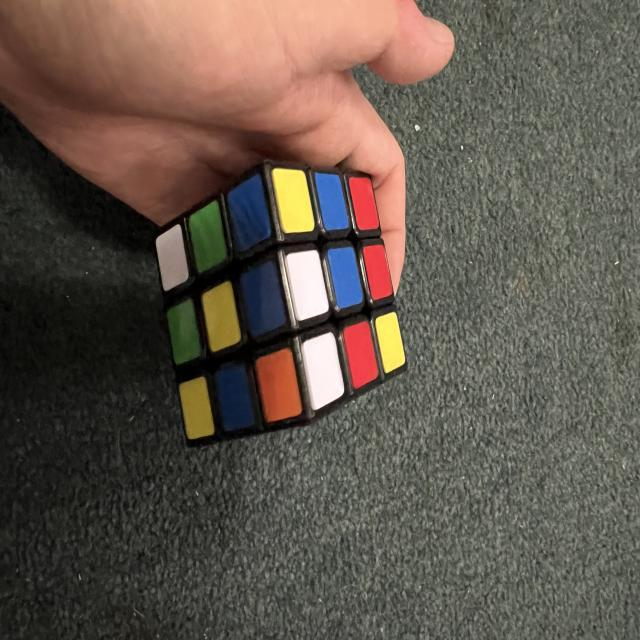blue: (236, 258, 290, 338), (224, 173, 275, 252), (212, 364, 257, 432), (313, 168, 350, 233)
center: (198, 280, 243, 353), (326, 244, 365, 309)
green: (184, 200, 231, 274), (164, 298, 204, 366)
orange: (252, 347, 304, 424)
red: (338, 319, 383, 390), (347, 173, 380, 233), (361, 242, 394, 301)
white: (299, 331, 347, 411), (283, 248, 331, 322), (153, 224, 192, 292)
yellow: (269, 163, 316, 237), (177, 376, 216, 441), (373, 311, 408, 374)
